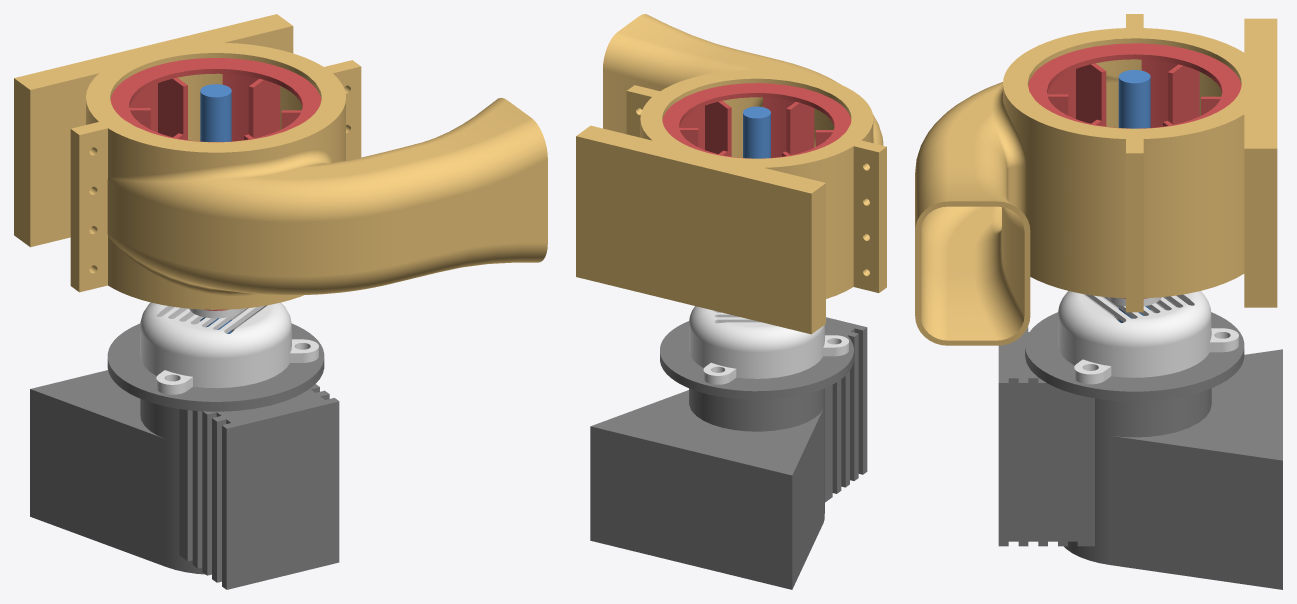
The model's file is Motor Blower Assembly Merged.fbx.
3 views of the same model, side by side, from view 1: azimuth 30°, elevation 25°; view 2: azimuth 150°, elevation 25°; view 3: azimuth 270°, elevation 25° (orthographic). The views are drawn at different scales.
Parts seen in each view (by area): view 1: Body5, Body1, Body4, Body2, Body3, Body6; view 2: Body4, Body1, Body5, Body3, Body2, Body6; view 3: Body1, Body5, Body4, Body2, Body3, Body6.
Part boxes in pixels (bbox=[...]): Body5: bbox=[75, 63, 547, 309]; Body1: bbox=[30, 323, 339, 589]; Body4: bbox=[14, 14, 356, 288]; Body2: bbox=[140, 302, 318, 394]; Body3: bbox=[110, 58, 321, 310]; Body6: bbox=[200, 84, 231, 333]; Body4: bbox=[576, 88, 882, 334]; Body1: bbox=[590, 317, 867, 589]; Body5: bbox=[603, 14, 886, 289]; Body3: bbox=[662, 83, 851, 158]; Body2: bbox=[689, 306, 848, 384]; Body6: bbox=[743, 106, 770, 158]; Body1: bbox=[998, 312, 1282, 589]; Body5: bbox=[915, 14, 1134, 345]; Body4: bbox=[1134, 14, 1277, 312]; Body2: bbox=[1058, 291, 1238, 384]; Body3: bbox=[1028, 43, 1241, 298]; Body6: bbox=[1118, 70, 1150, 322].
Size of the model in its own units: 19.4 by 24 by 16.75.
